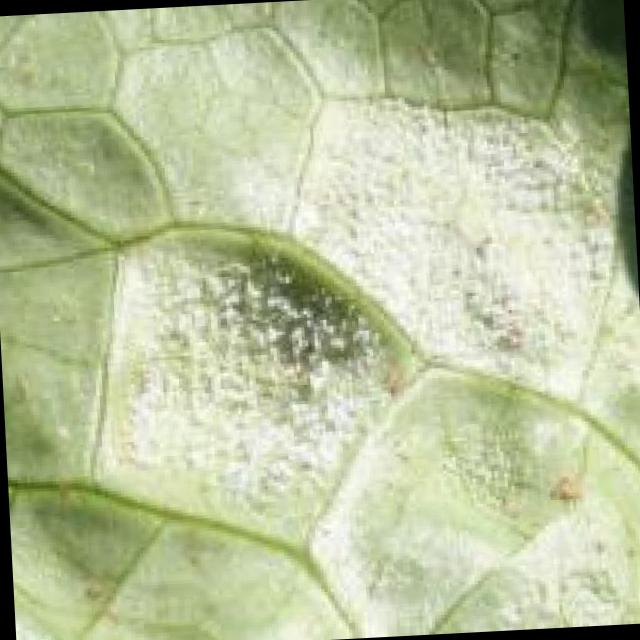Powdery_Mildew: (196, 80, 589, 489)
